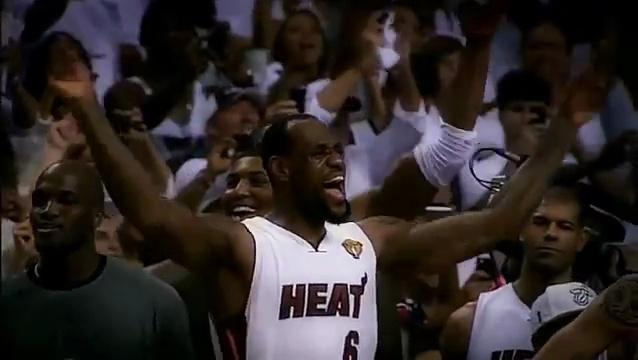Person: (39, 41, 589, 360)
